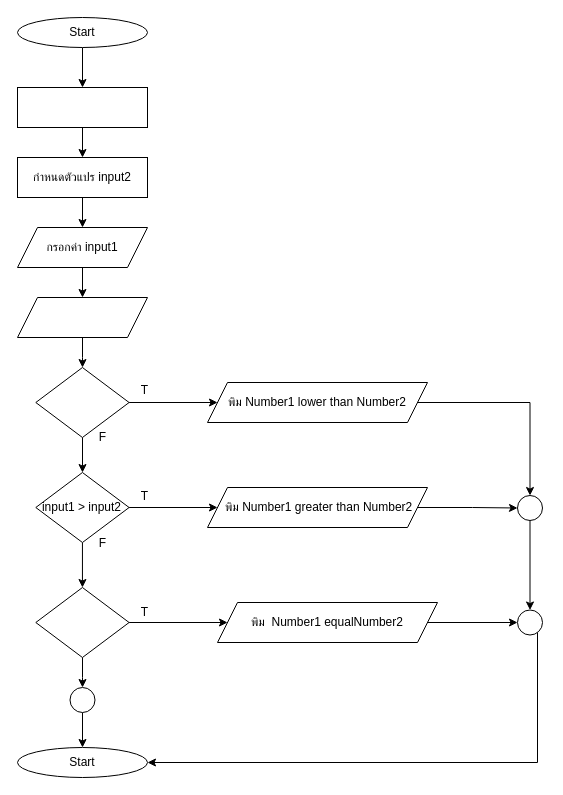
This 563x795 diagram has some shape labels left out. Each missing label, with the box of its shape:
input1 < input2: (35, 366, 129, 438)
input1 == input2: (35, 586, 129, 658)
กรอกค่า input2: (16, 296, 148, 338)
กำหนดตัวแปร input1: (16, 86, 148, 128)
